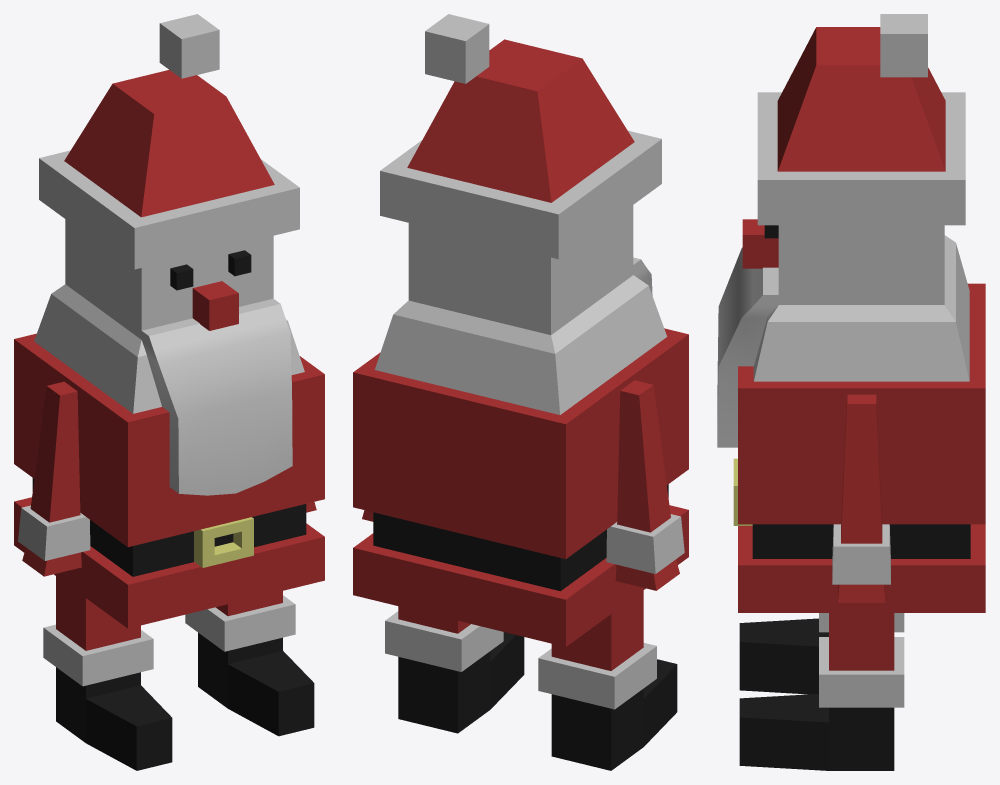
Rendered from 017 Santa_claus.fbx.
The picture shows the model from 3 angles, left to right: view 1: azimuth 30°, elevation 25°; view 2: azimuth 150°, elevation 25°; view 3: azimuth 270°, elevation 25°; orthographic projection. The views are drawn at different scales.
Visible parts, largest first — view 1: Lowpoly_Christmas_Pack_017:pCube13; view 2: Lowpoly_Christmas_Pack_017:pCube13; view 3: Lowpoly_Christmas_Pack_017:pCube13.
Part boxes in pixels (x1,y1,x2,y2): Lowpoly_Christmas_Pack_017:pCube13: [14, 14, 324, 770]; Lowpoly_Christmas_Pack_017:pCube13: [353, 14, 688, 770]; Lowpoly_Christmas_Pack_017:pCube13: [717, 14, 985, 770].
Bounding box in the file's own units: 1.4 × 3.19 × 1.08.
